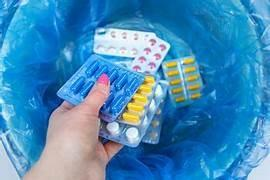pill_Strip: (57, 55, 144, 121), (99, 81, 167, 146), (117, 75, 157, 125), (162, 56, 202, 106), (93, 27, 155, 57), (131, 37, 169, 73), (108, 73, 139, 115), (175, 57, 201, 102), (100, 122, 148, 146), (142, 80, 167, 126), (162, 59, 187, 103), (99, 120, 141, 146), (143, 80, 167, 125), (180, 56, 202, 102), (142, 101, 164, 143), (95, 27, 154, 41), (120, 96, 148, 124), (99, 120, 125, 141), (137, 79, 157, 97), (107, 96, 125, 113), (142, 125, 159, 143), (164, 66, 181, 81), (85, 61, 99, 77), (70, 77, 84, 93), (80, 81, 94, 96), (125, 127, 139, 142), (114, 74, 127, 90), (154, 80, 167, 96), (101, 91, 113, 108), (122, 111, 140, 122), (94, 65, 108, 78), (125, 78, 137, 93), (106, 122, 119, 135), (114, 58, 131, 67), (127, 102, 143, 111), (133, 95, 149, 104), (133, 93, 147, 103), (139, 83, 152, 93), (180, 56, 195, 64), (108, 69, 117, 82), (187, 83, 201, 91), (183, 66, 197, 74), (133, 68, 153, 73), (181, 57, 194, 64), (147, 101, 155, 111), (166, 70, 179, 76), (185, 75, 198, 81), (144, 76, 155, 83), (169, 79, 181, 85), (171, 87, 182, 93), (151, 119, 159, 127), (149, 131, 157, 139), (99, 137, 109, 143), (190, 93, 200, 99), (166, 61, 176, 67), (175, 96, 185, 102), (156, 109, 161, 113)
